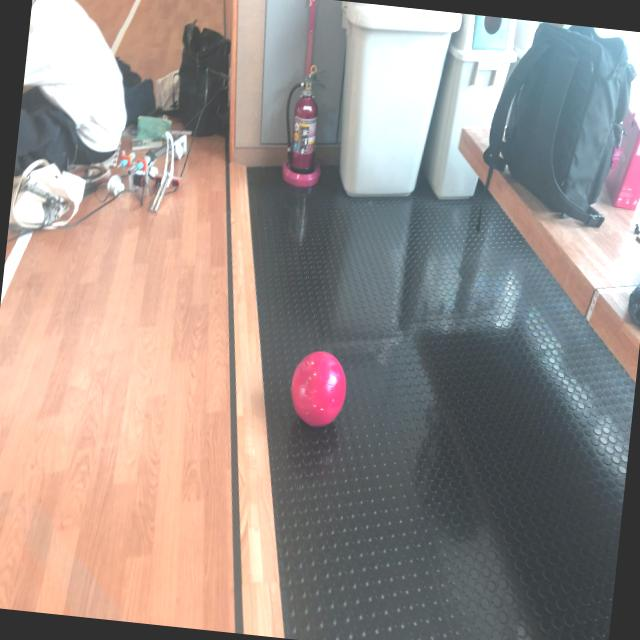red_ball: (287, 347, 348, 428)
